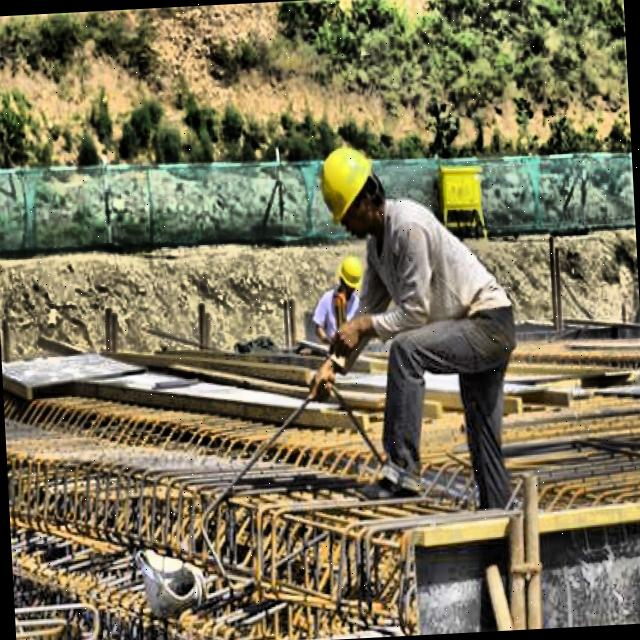helmet: (310, 134, 396, 246), (334, 250, 370, 303)
